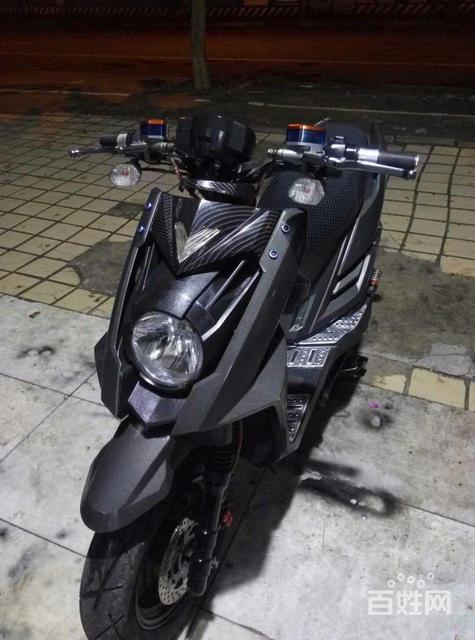电动车: (55, 90, 429, 639)
